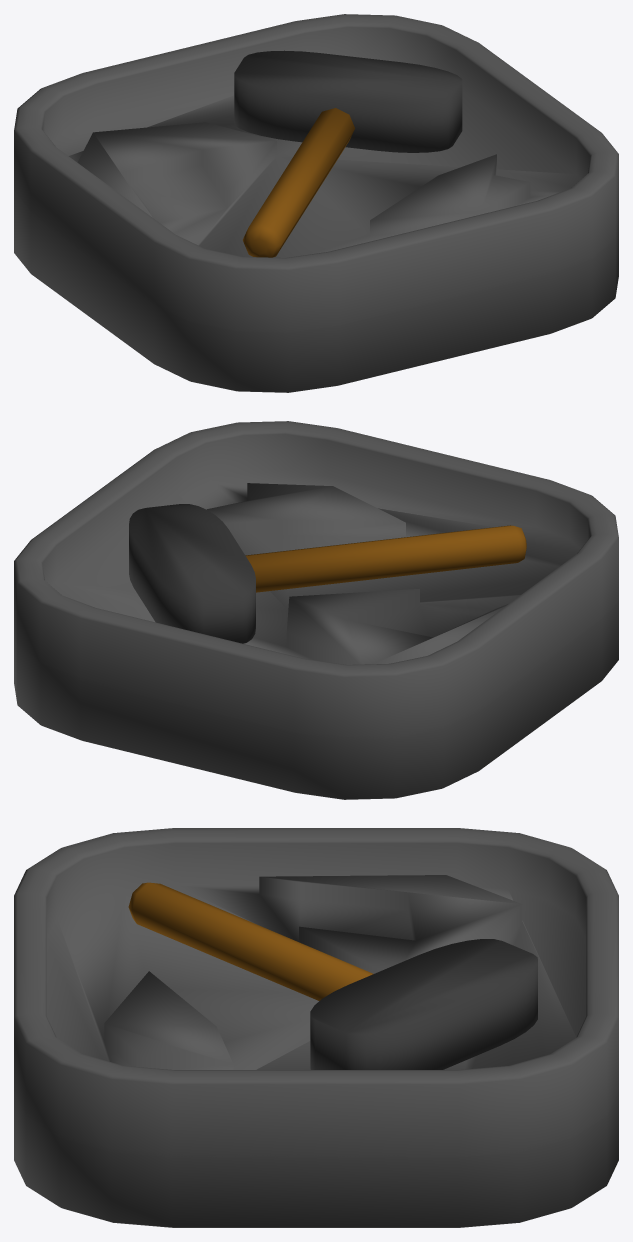
The model's file is Hammer.fbx.
3 renders of one model, top to bottom at view 1: azimuth 30°, elevation 25°; view 2: azimuth 150°, elevation 25°; view 3: azimuth 270°, elevation 25°, orthographic. The views are drawn at different scales.
Visible parts, largest first — view 1: Rock, Cube, Cylinder; view 2: Rock, Cube, Cylinder; view 3: Rock, Cube, Cylinder.
Part boxes in pixels (bbox=[...]): Rock: bbox=[14, 14, 618, 392]; Cube: bbox=[234, 50, 462, 152]; Cylinder: bbox=[243, 108, 354, 257]; Rock: bbox=[14, 421, 618, 799]; Cube: bbox=[129, 504, 255, 643]; Cylinder: bbox=[245, 525, 526, 592]; Rock: bbox=[14, 828, 618, 1227]; Cube: bbox=[310, 939, 537, 1069]; Cylinder: bbox=[128, 882, 373, 1000].
Size of the model in its own units: 0.2 by 0.0584 by 0.2.
